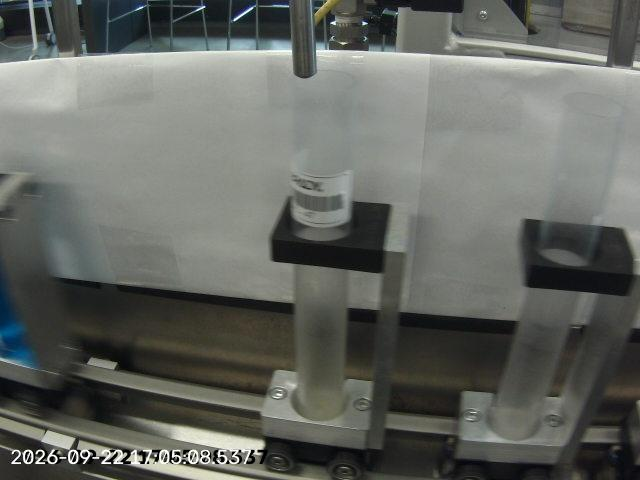vial: (483, 89, 628, 440), (286, 64, 361, 426)
